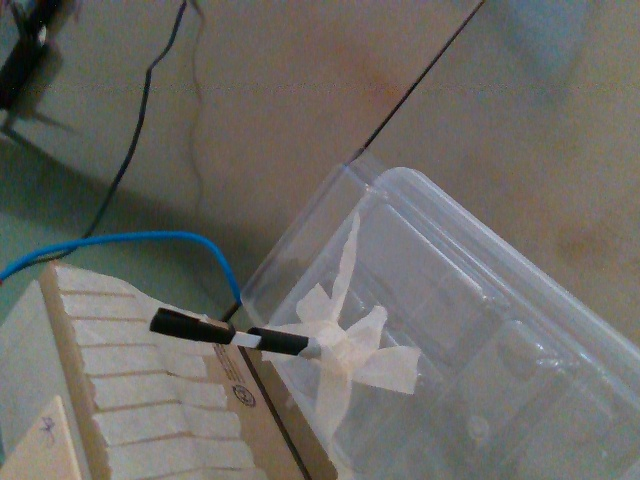test_strip: (148, 305, 260, 352)
